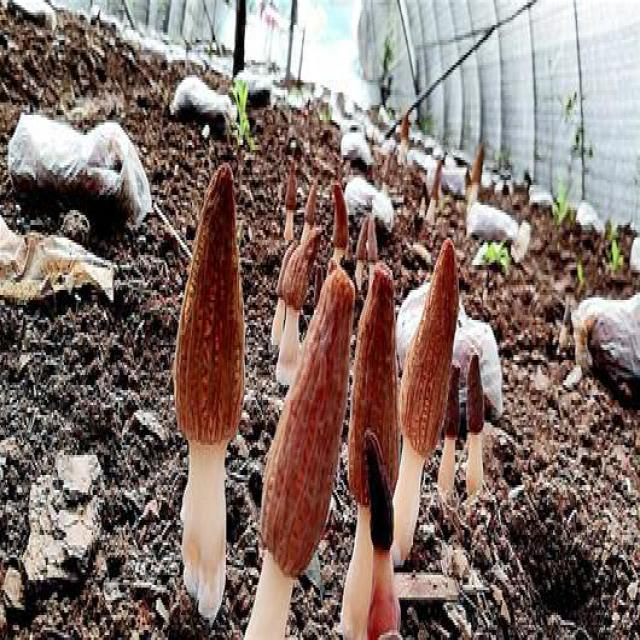Morchella esculenta: (250, 271, 354, 640), (173, 161, 244, 610), (400, 241, 459, 568), (349, 260, 399, 640), (270, 242, 306, 388), (439, 367, 460, 496), (468, 350, 485, 509), (332, 178, 347, 267)
